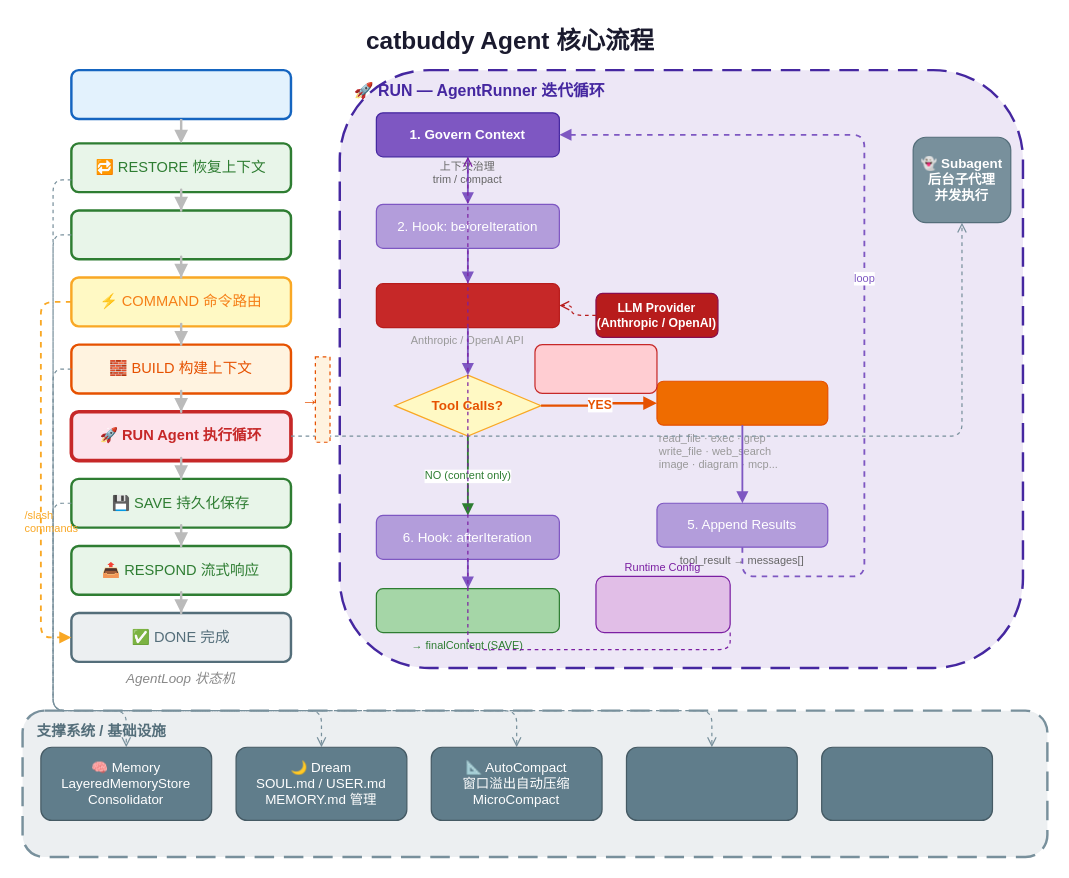
This 1069x878 diagram has some shape labels left out. The shapes that lost their labels are listed below. From the top down, each one's box as (x1, y1, x2, y2) in pixels, then its label:
(70, 68, 292, 120): 📩 用户消息
(70, 209, 292, 260): 🗜️ COMPACT 自动压缩
(375, 282, 559, 328): 3. LLM Chat (streaming)
(534, 343, 657, 393): AbortSignal Cancellation
(314, 356, 330, 442): ContextBuilder system prompt + 模板 memory + skills + tools
(656, 380, 828, 425): 4. Execute Tools
(595, 575, 730, 633): maxIterations contextWindowTokens concurrentTools
(625, 746, 797, 820): 🔧 ToolRegistry 20+ 内置工具 MCP 管理
(820, 746, 992, 820): 🧩 Skills 可发现的技能系统 ClawHub 安装
